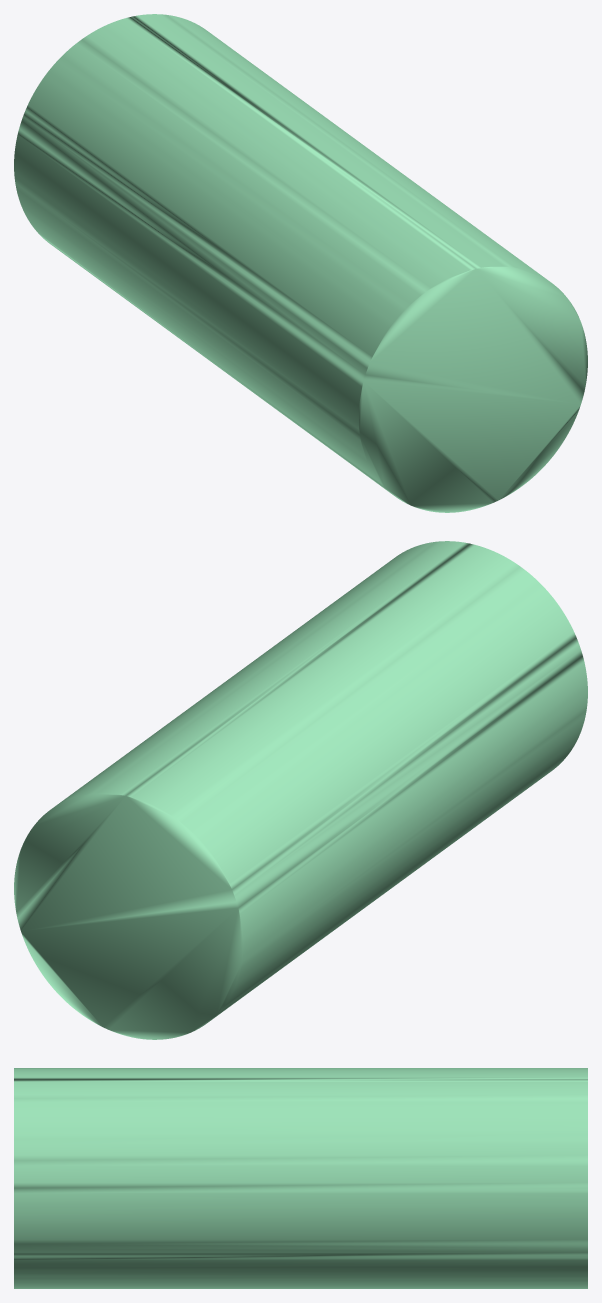
File: rig_bar.glb
3 renders of one model, top to bottom at view 1: azimuth 30°, elevation 25°; view 2: azimuth 150°, elevation 25°; view 3: azimuth 270°, elevation 25°, orthographic. The views are drawn at different scales.
Parts seen in each view (by area): view 1: rig_bar; view 2: rig_bar; view 3: rig_bar.
Boxes of the visible parts, bbox=[...] form: rig_bar: bbox=[14, 14, 587, 512]; rig_bar: bbox=[14, 541, 587, 1039]; rig_bar: bbox=[14, 1068, 587, 1288].
Bounding box in the file's own units: 40 × 39.99 × 104.
